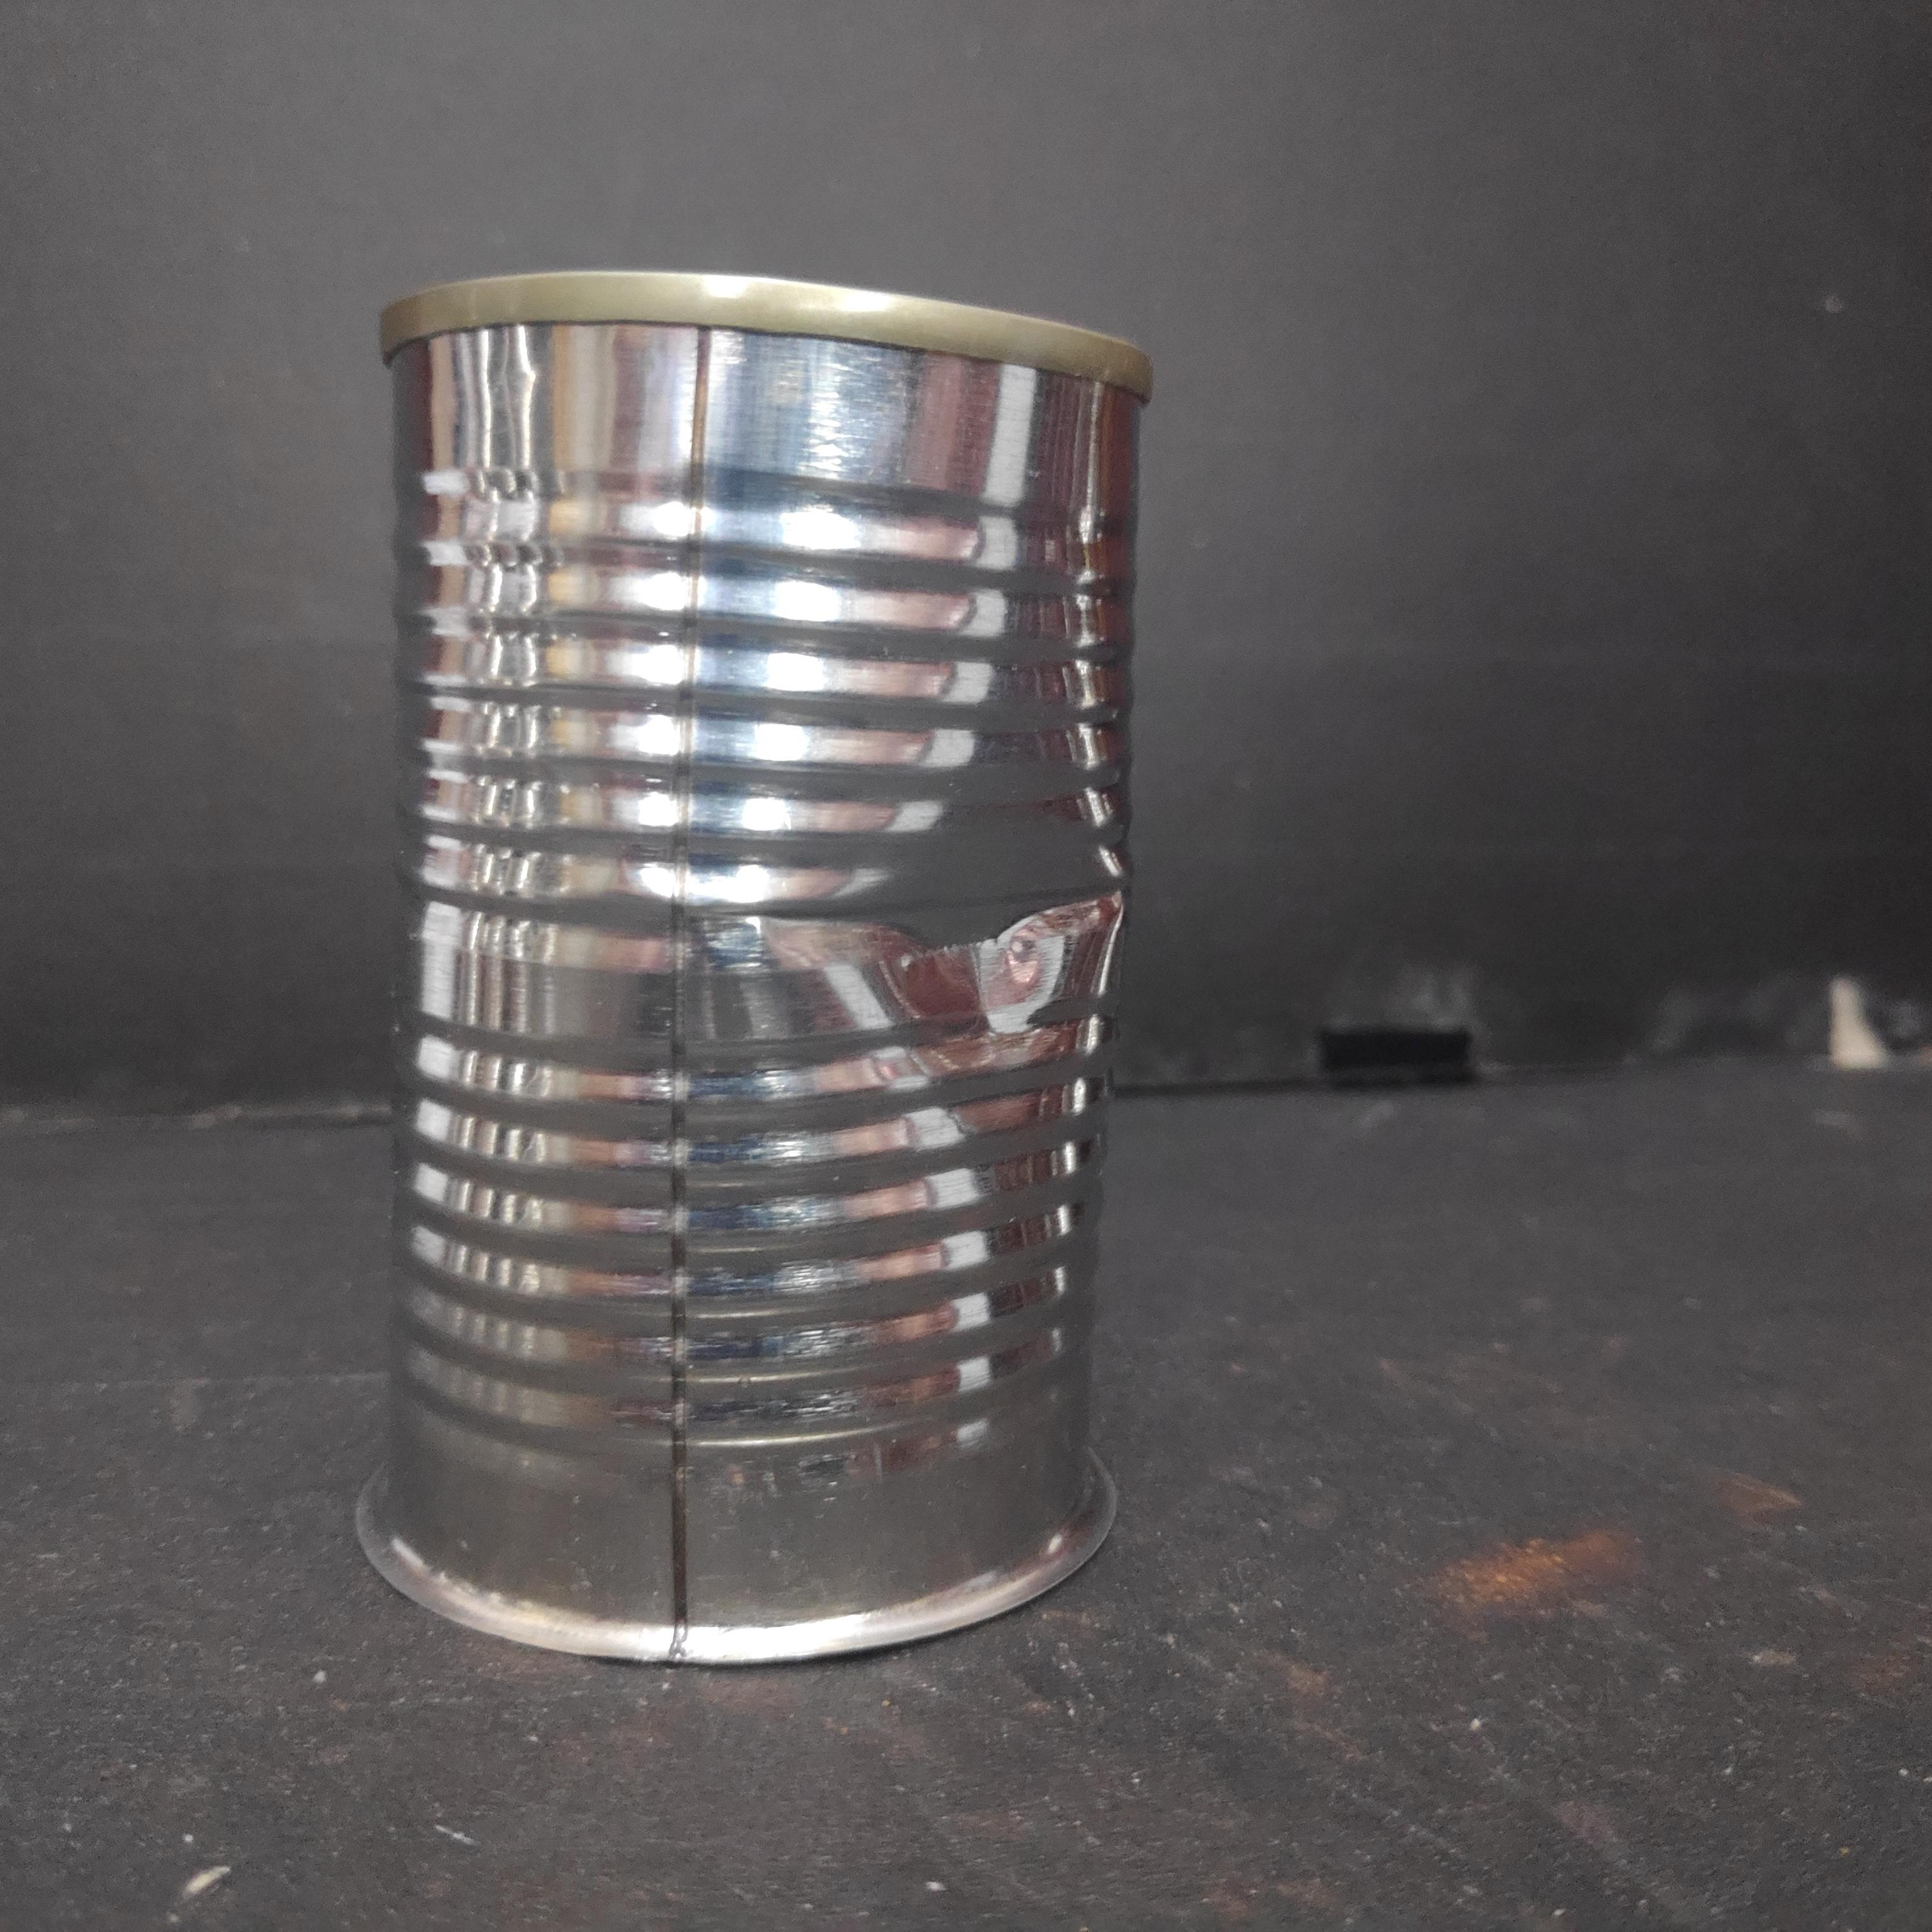Minor Defect: (368, 257, 1168, 1690)
